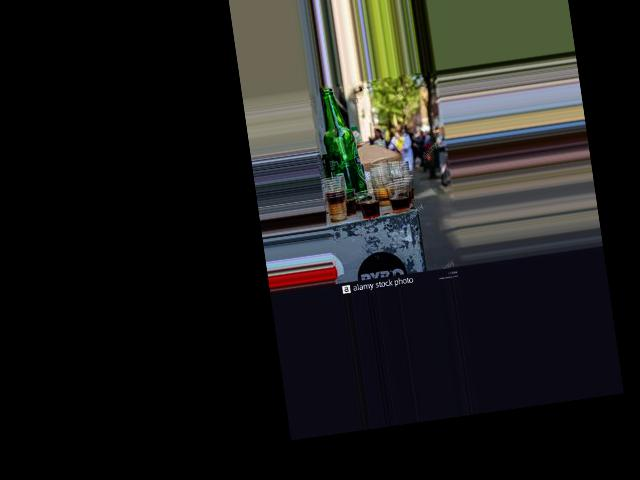beer: (316, 85, 370, 210)
